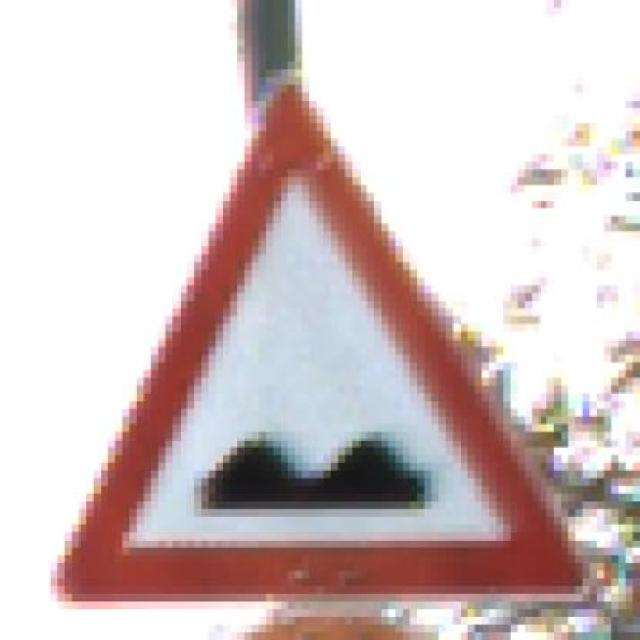Uneven Road: (50, 69, 590, 609)
